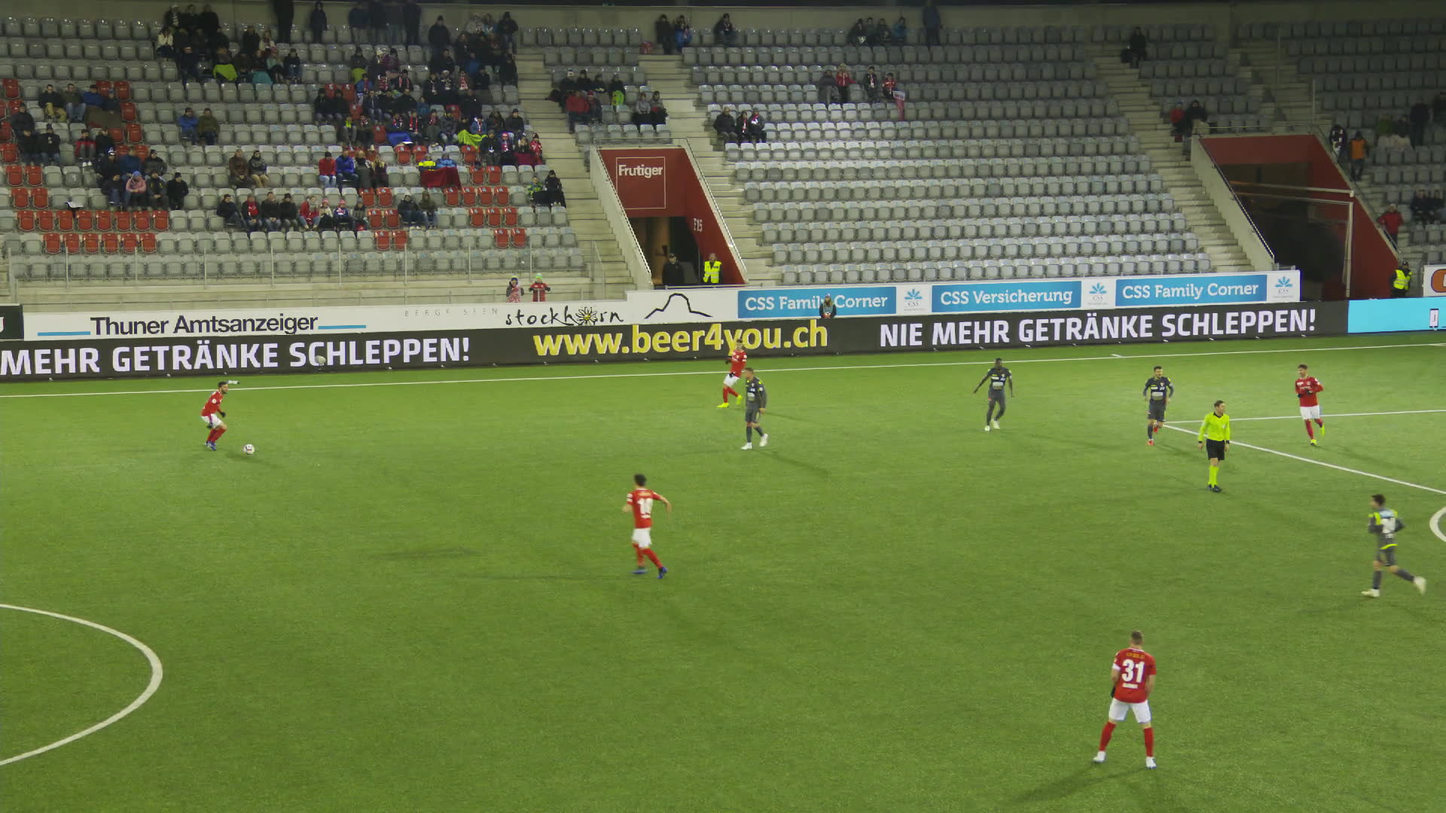ball: (240, 443, 253, 455)
player: (1090, 632, 1159, 772), (1371, 495, 1433, 601), (624, 474, 672, 578), (974, 357, 1014, 431), (1141, 361, 1174, 446), (1292, 364, 1326, 443), (738, 367, 770, 448), (193, 379, 226, 450), (716, 336, 744, 409)
referee: (1197, 400, 1232, 495)
